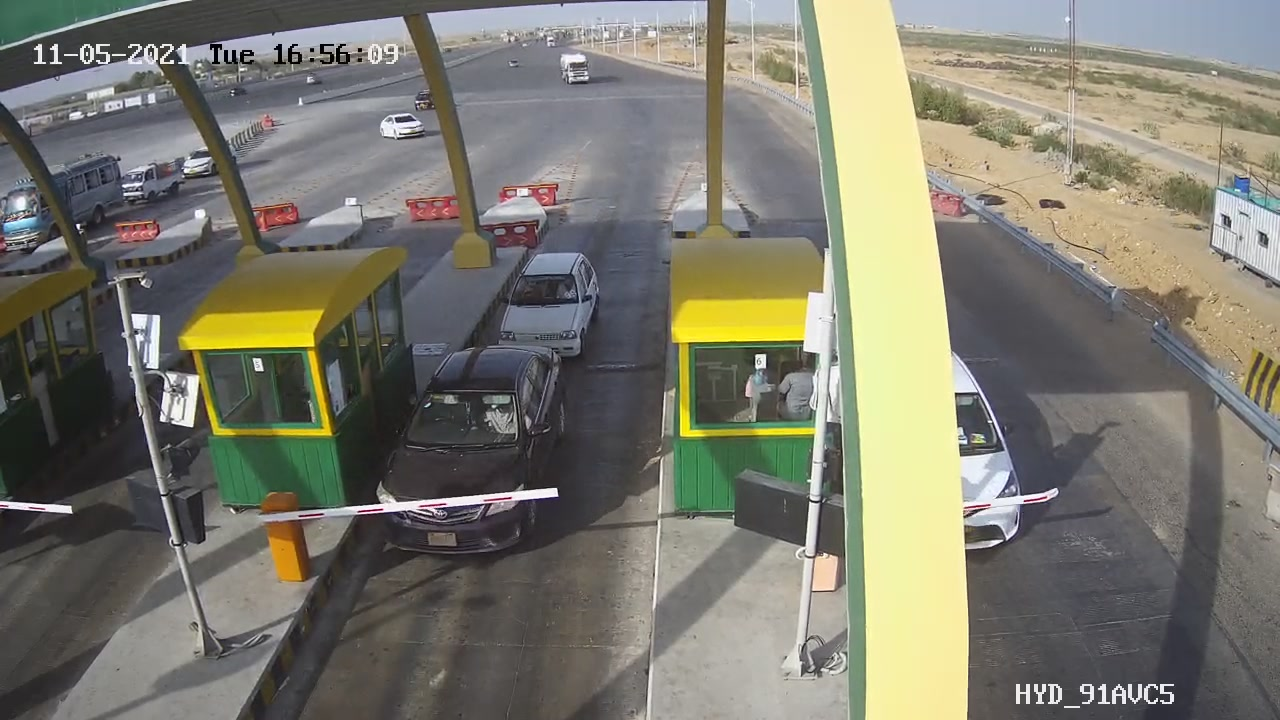F1: (365, 331, 596, 571), (483, 240, 627, 371)
